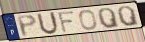F: (57, 10, 76, 34)
O: (78, 9, 98, 31)
P: (16, 14, 38, 38)
Q: (117, 5, 141, 28), (97, 7, 121, 29)
U: (36, 11, 60, 36)
